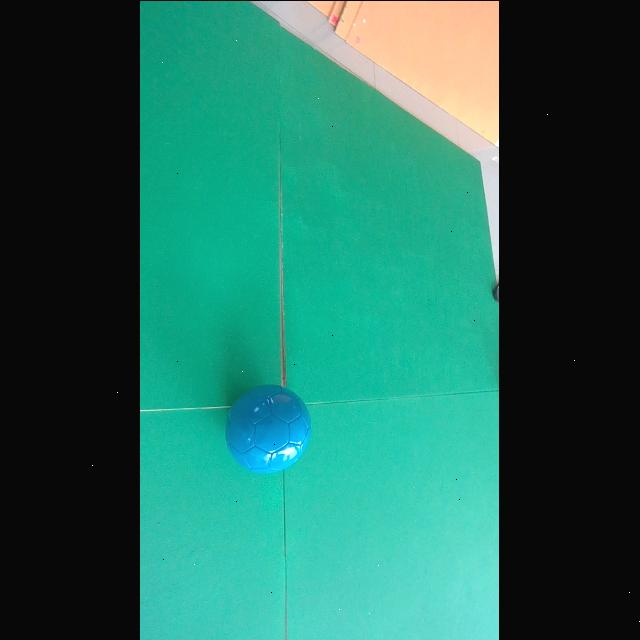B: (225, 383, 312, 474)
